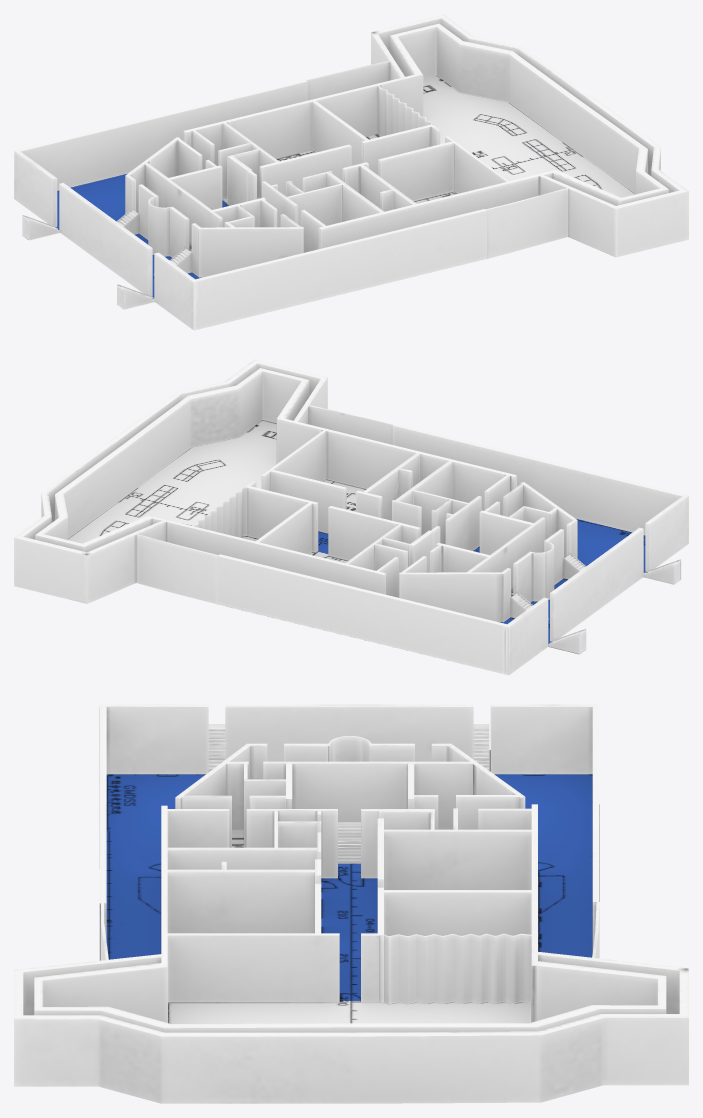
Rendered from jiaShiJiaBan04.fbx.
3 views of the same model, one above another, from view 1: azimuth 30°, elevation 25°; view 2: azimuth 150°, elevation 25°; view 3: azimuth 270°, elevation 25° (orthographic). The views are drawn at different scales.
Parts seen in each view (by area): view 1: polySurface9; view 2: polySurface9; view 3: polySurface9.
Part boxes in pixels (x1=…): polySurface9: x1=14, y1=14, x2=688, y2=330; polySurface9: x1=14, y1=359, x2=688, y2=675; polySurface9: x1=14, y1=704, x2=688, y2=1103.
Size of the model in its own units: 4060 by 3274 by 359.
